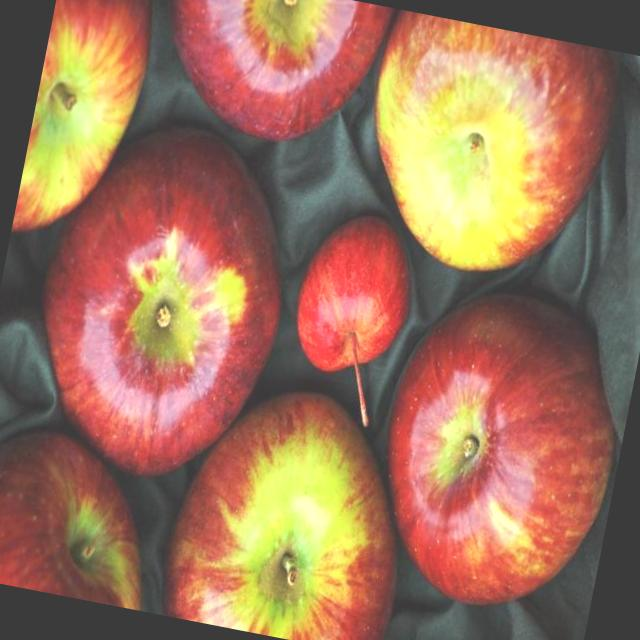Apple: (12, 106, 313, 498), (357, 274, 640, 627), (344, 9, 626, 294), (156, 370, 431, 640), (143, 0, 393, 160), (11, 0, 167, 251), (277, 205, 426, 431), (0, 417, 172, 611)
